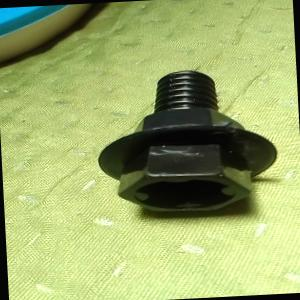parafuso: (92, 65, 278, 216)
